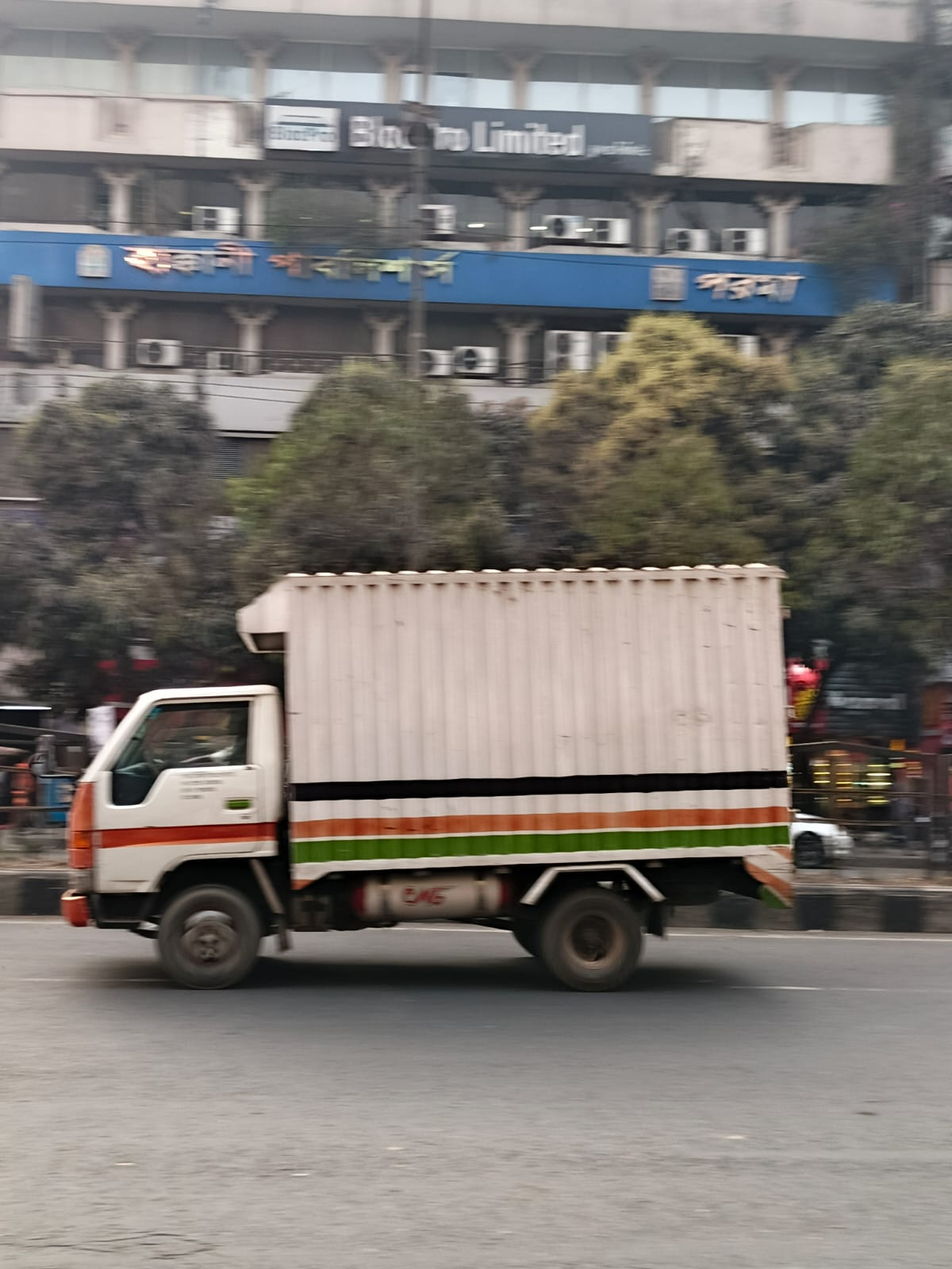Pickup: (50, 500, 808, 1058)
